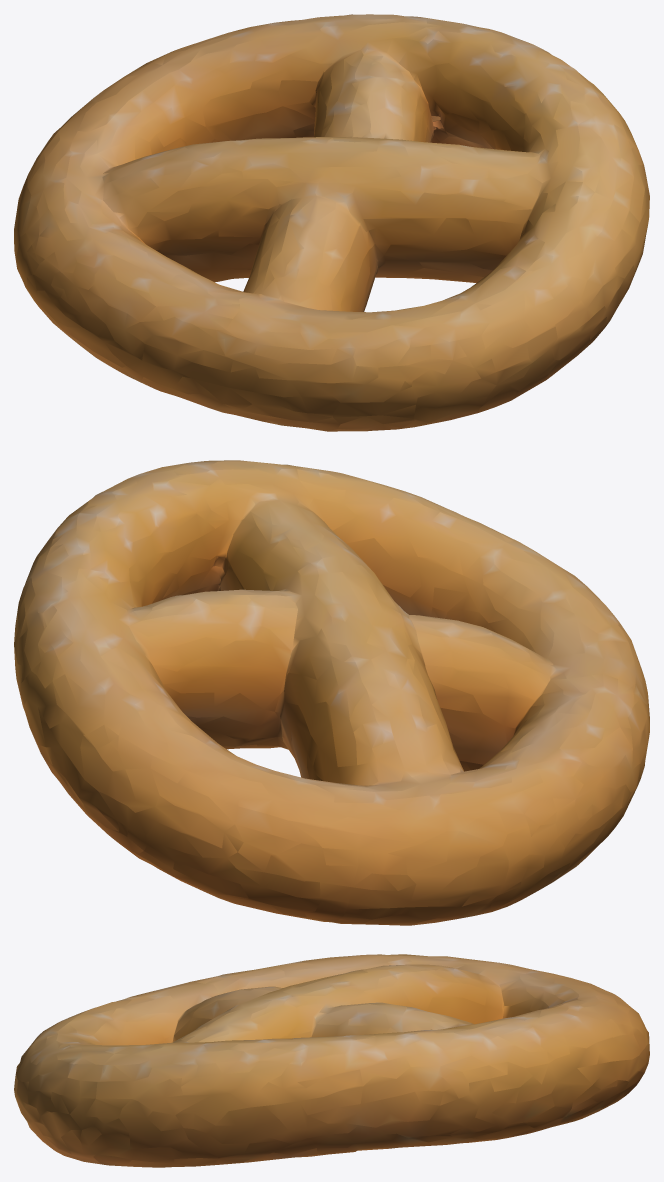
The model's file is 0006_mask_007_pretzel.glb.
3 renders of one model, top to bottom at view 1: azimuth 30°, elevation 25°; view 2: azimuth 150°, elevation 25°; view 3: azimuth 270°, elevation 25°, orthographic. The views are drawn at different scales.
Parts seen in each view (by area): view 1: mask_007_object; view 2: mask_007_object; view 3: mask_007_object.
Part boxes in pixels (box(x1,y1,x2,y2)): mask_007_object: box(14, 14, 649, 431); mask_007_object: box(14, 460, 649, 925); mask_007_object: box(14, 954, 649, 1167).
Bounding box in the file's own units: 0.1917 × 0.0843 × 0.2291.
